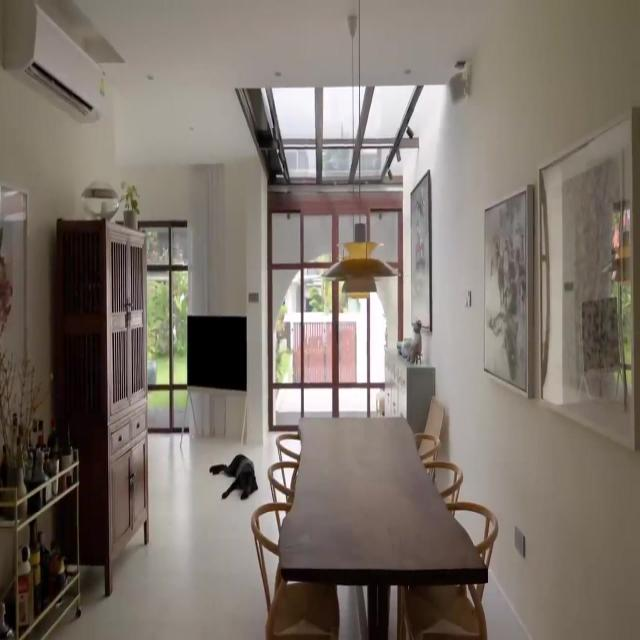door: (269, 208, 387, 428)
obstacle: (277, 414, 488, 638), (54, 218, 149, 596), (0, 448, 82, 639)
